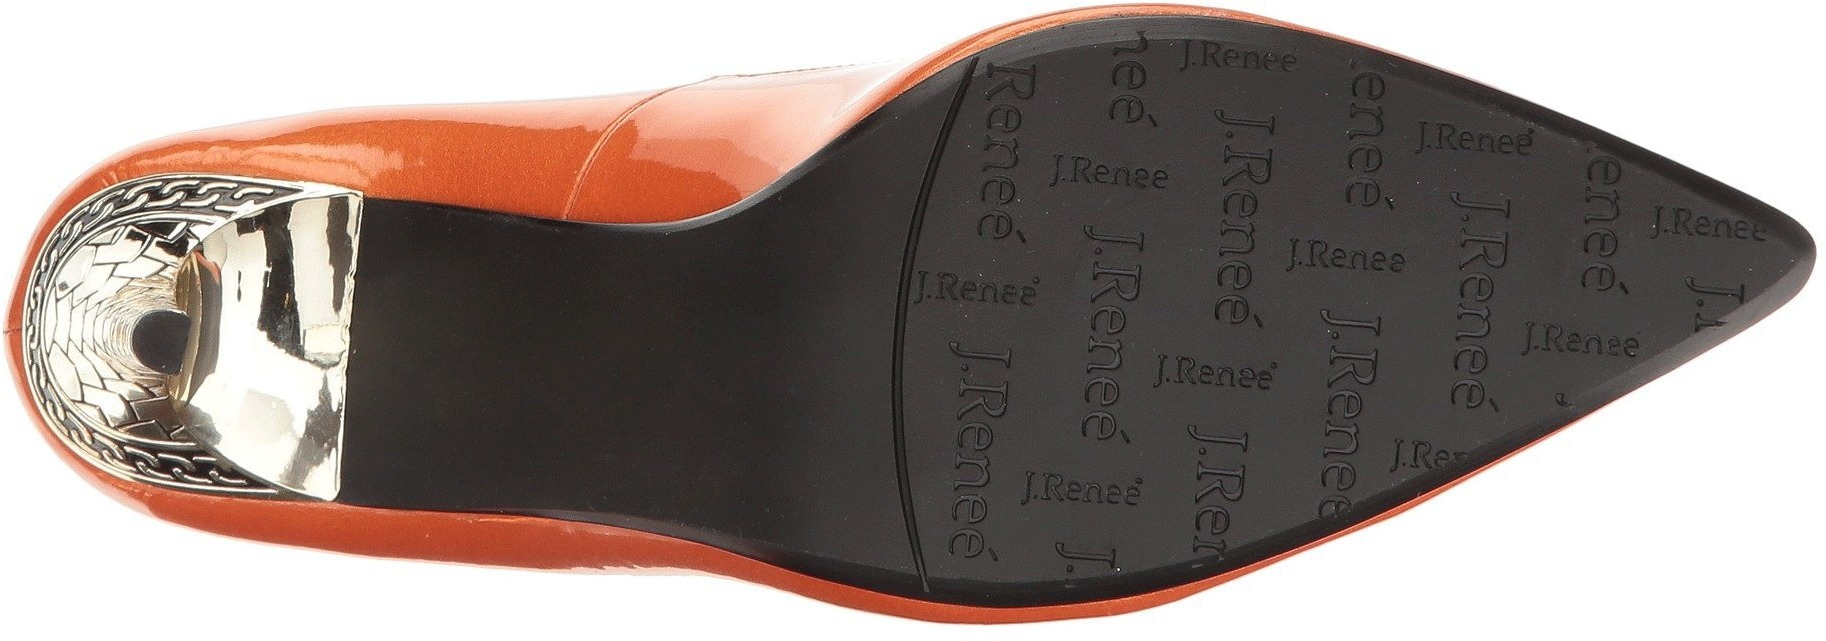exclude: (172, 24, 960, 633)
other: (140, 320, 183, 357)
text: (1094, 73, 1201, 179), (1199, 227, 1308, 329), (970, 136, 1080, 235), (1421, 214, 1529, 309), (1082, 323, 1187, 418), (954, 441, 1052, 534), (1282, 350, 1390, 434), (1209, 132, 1298, 218), (918, 262, 1005, 346), (1567, 209, 1656, 284), (1315, 107, 1399, 185)
